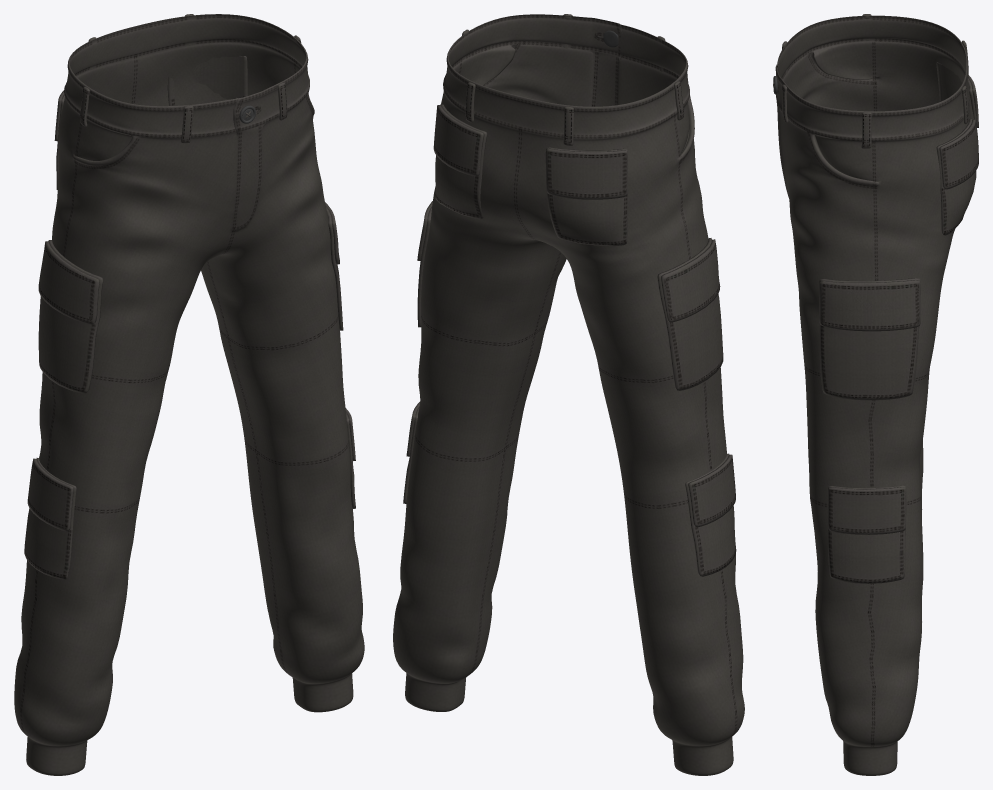
File: jeans.glb
3 renders of one model, left to right at view 1: azimuth 30°, elevation 25°; view 2: azimuth 150°, elevation 25°; view 3: azimuth 270°, elevation 25°, orthographic. The views are drawn at different scales.
Parts seen in each view (by area): view 1: Cube, Plane.001, Plane.003, Plane.002, Plane.004, Plane.005, Plane; view 2: Cube, Plane.006, Plane.005, Plane.001, Plane.003, Plane.002, Plane.004, Plane; view 3: Cube, Plane.001, Plane.003, Plane.002, Plane.004, Plane.005, Plane.006, Plane.
Part boxes in pixels (box(x1,y1,x2,y2)): Cube: box(14, 14, 364, 775); Plane.001: box(38, 207, 343, 393); Plane.003: box(38, 202, 339, 324); Plane.002: box(24, 413, 355, 579); Plane.004: box(27, 408, 355, 531); Plane.005: box(56, 56, 247, 189); Plane: box(80, 14, 301, 143); Cube: box(393, 14, 744, 775); Plane.006: box(433, 105, 627, 199); Plane.005: box(435, 104, 627, 246); Plane.001: box(417, 206, 723, 390); Plane.003: box(417, 201, 720, 322); Plane.002: box(403, 406, 736, 576); Plane.004: box(406, 402, 735, 527); Plane: box(462, 14, 684, 145); Cube: box(775, 15, 973, 775); Plane.001: box(819, 278, 920, 400); Plane.003: box(819, 280, 920, 331); Plane.002: box(828, 485, 906, 583); Plane.004: box(828, 487, 906, 534); Plane.005: box(936, 62, 976, 235); Plane.006: box(939, 75, 978, 189); Plane: box(782, 14, 968, 148).
Bounding box in the file's own units: 2.85 × 5.47 × 1.59.
1 material, 1 textured.
